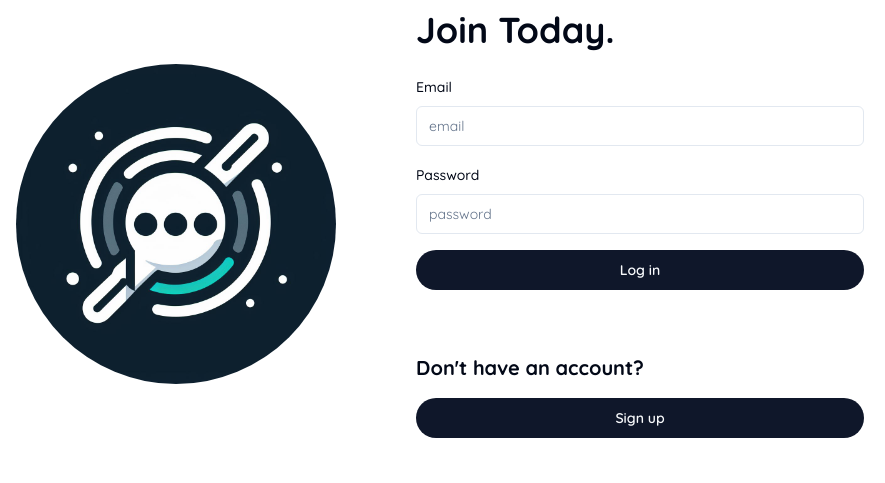
Scenario: Login › should display error message when password is empty
The image size is (885, 483).
Type "example@test.com" into the field labelled "Email" at (640, 126), box [416, 106, 864, 146]
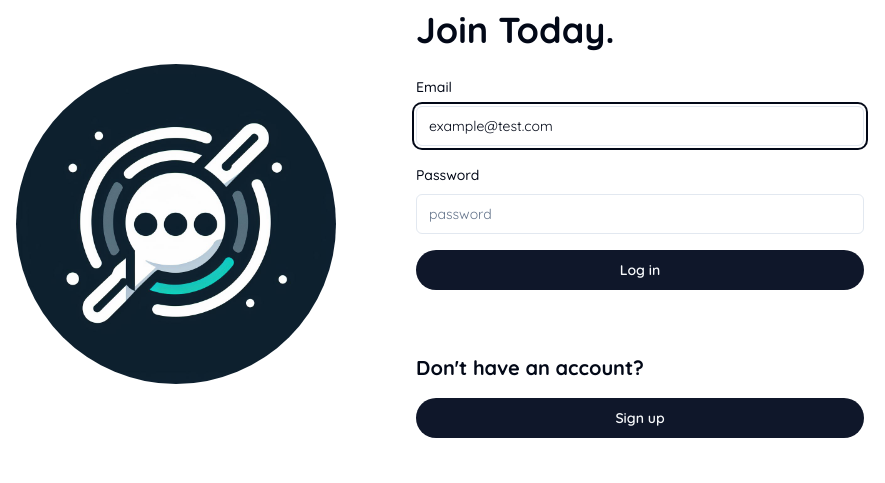
Click the submit button at (640, 270), box [416, 250, 864, 290]
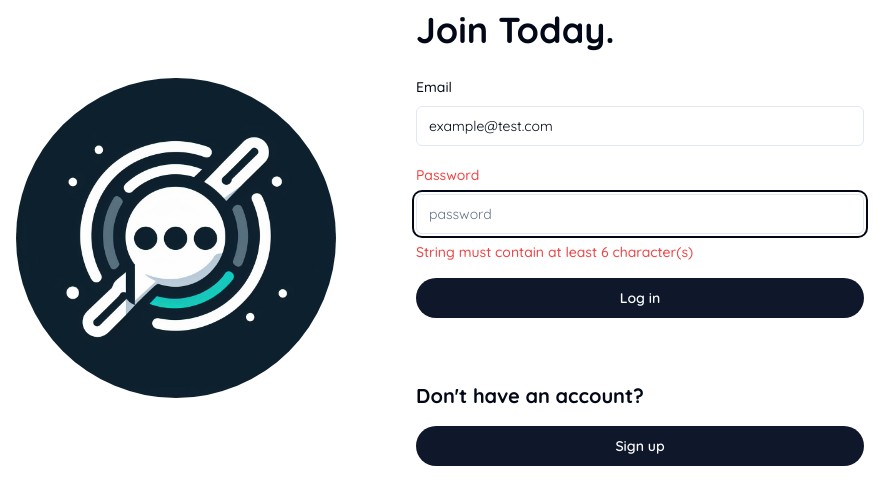
Now the text "String must contain at least 6 character(s)" is shown, box [416, 243, 693, 261]
